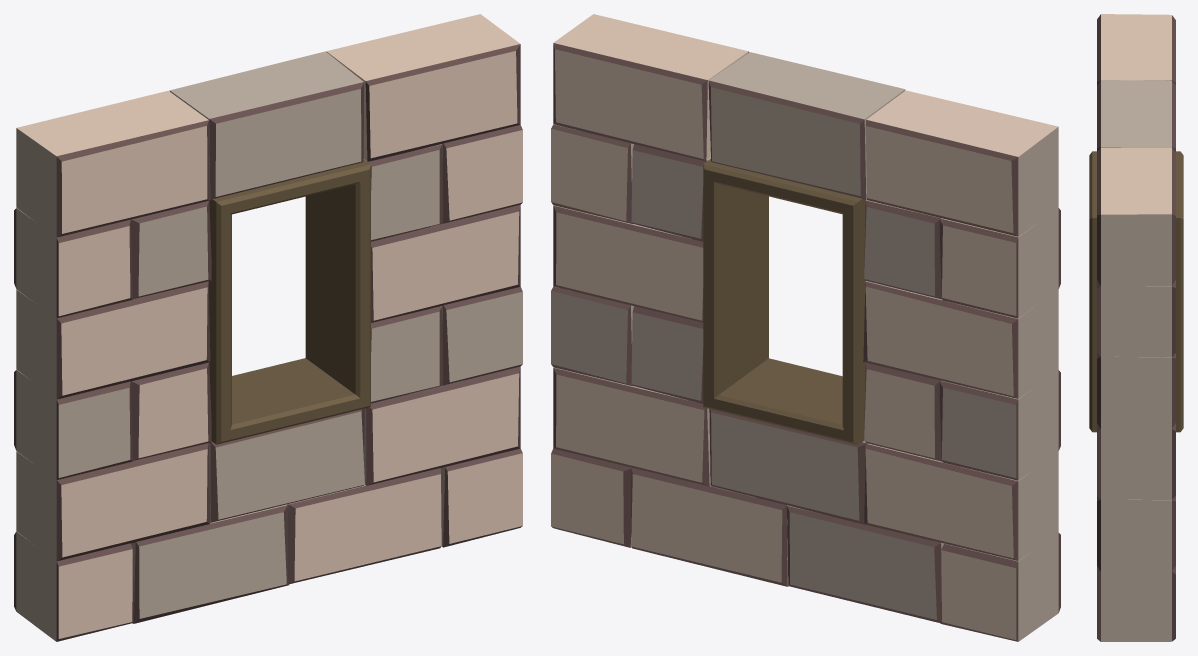
Rendered from greek_wall_1_window.fbx.
3 renders of one model, left to right at view 1: azimuth 30°, elevation 25°; view 2: azimuth 150°, elevation 25°; view 3: azimuth 270°, elevation 25°, orthographic. The views are drawn at different scales.
Visible parts, largest first — view 1: Cube.038; view 2: Cube.038; view 3: Cube.038.
Part boxes in pixels (x1,y1,x2,y2): Cube.038: (14,14,522,641); Cube.038: (551,14,1060,641); Cube.038: (1089,14,1183,641).
Size of the model in its own units: 300 by 301 by 60.
